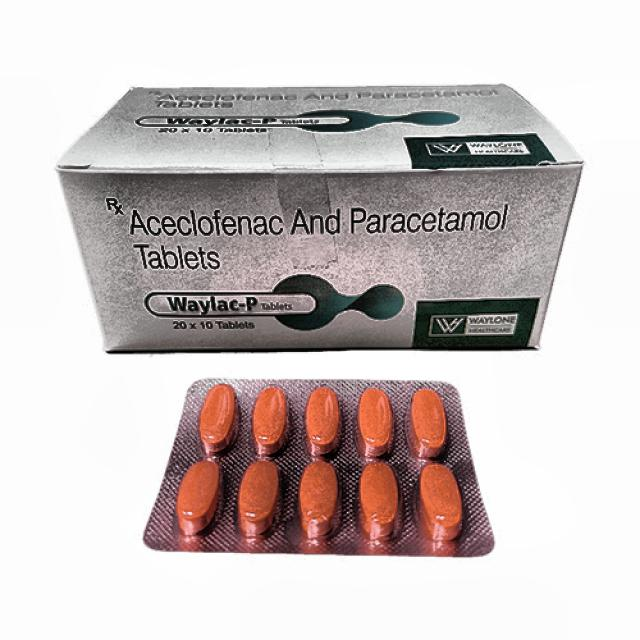Paracetamol: (92, 192, 514, 289)
